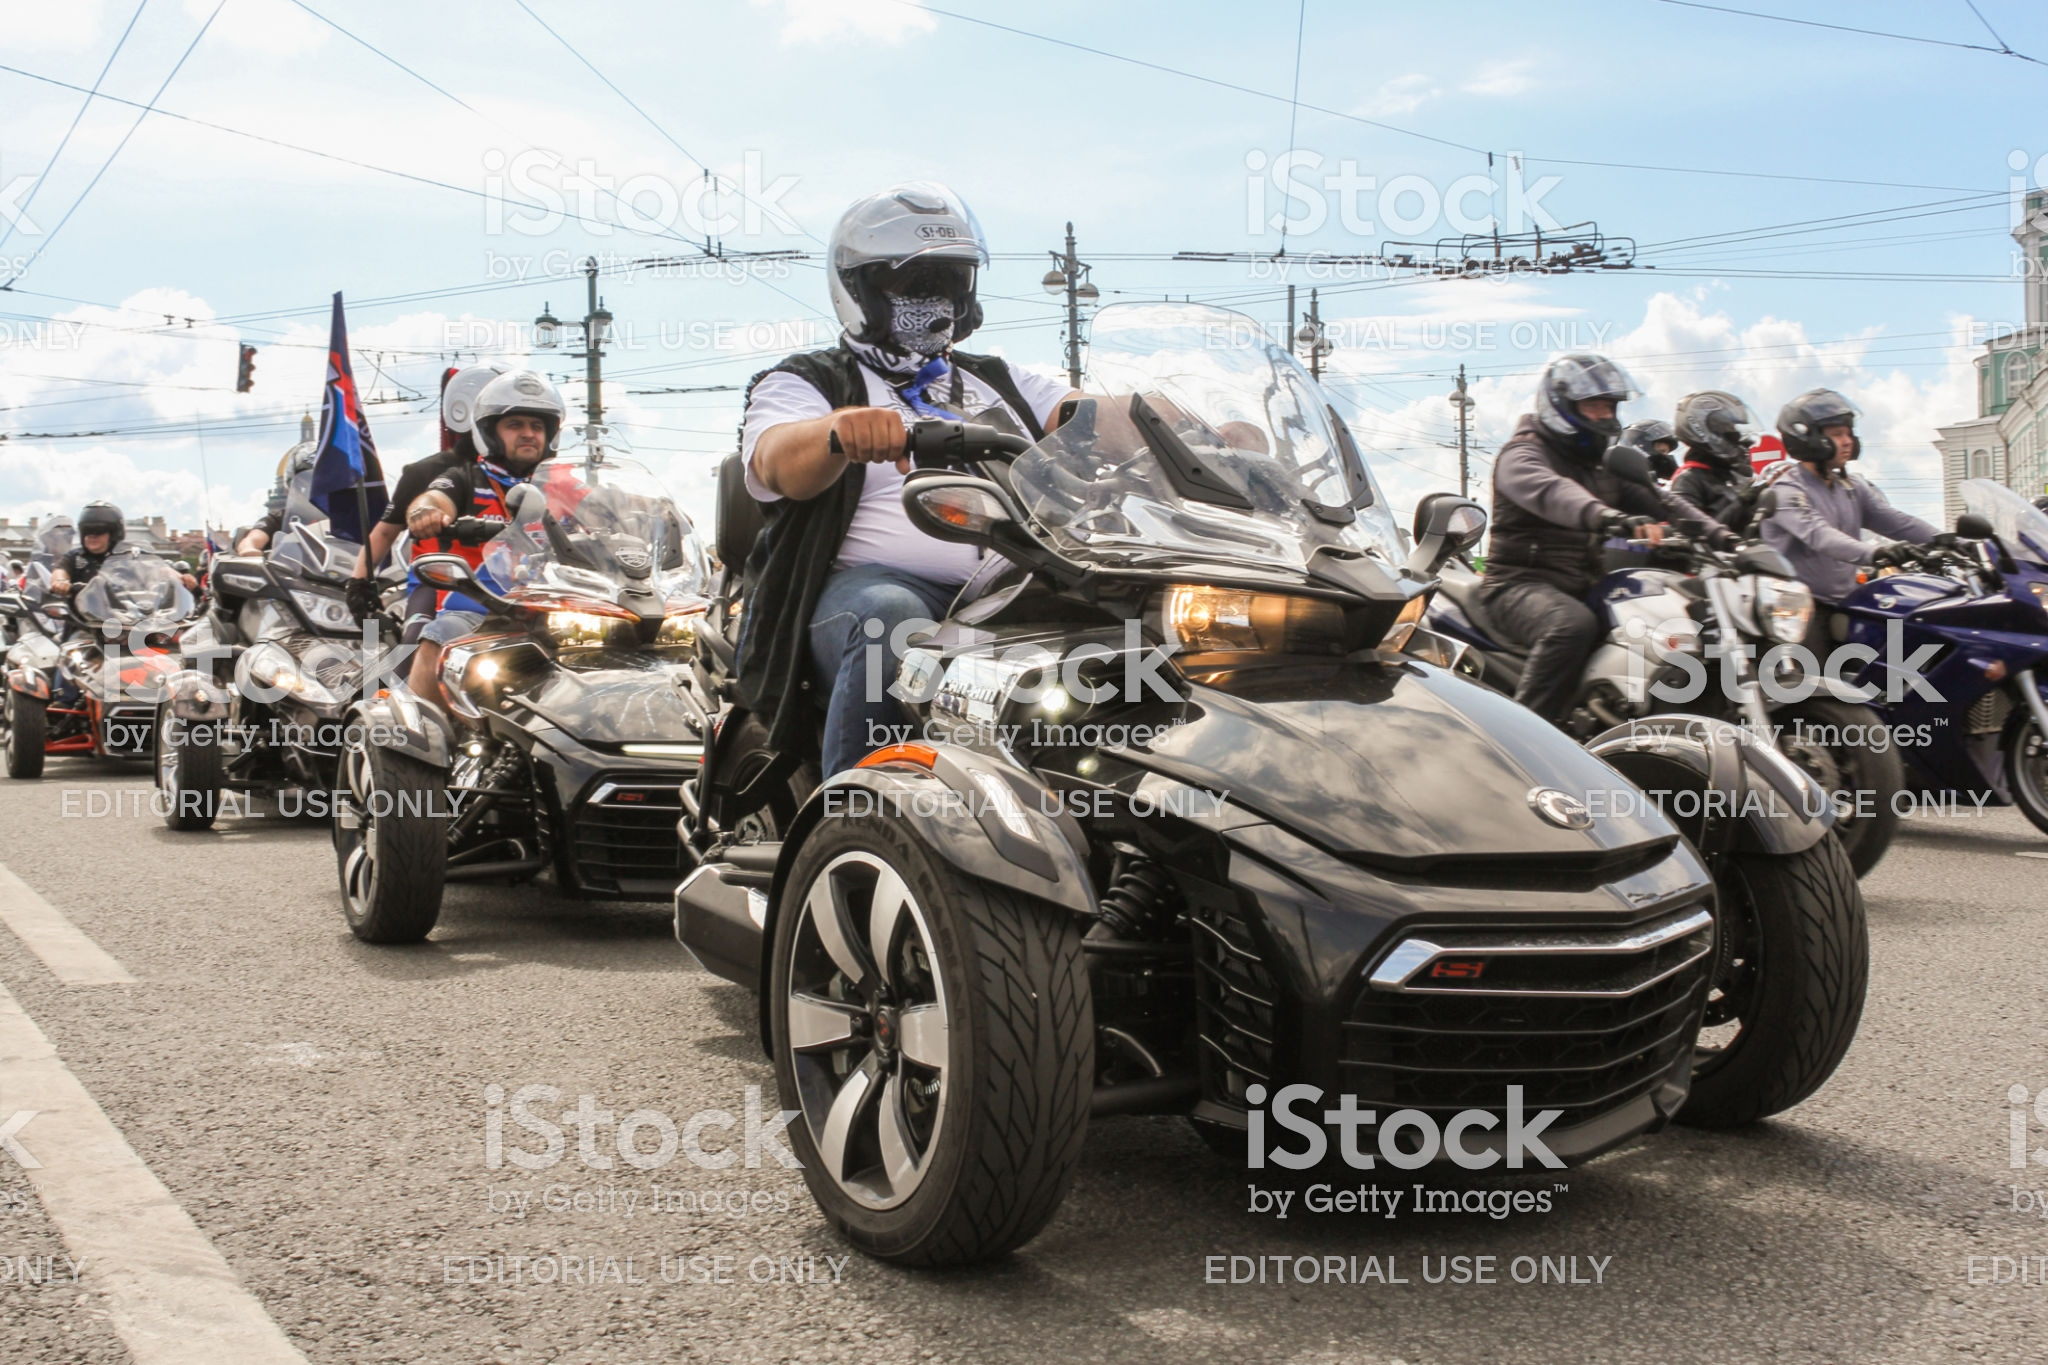helmet: (818, 187, 1019, 356), (1529, 344, 1641, 452), (458, 376, 588, 469)
